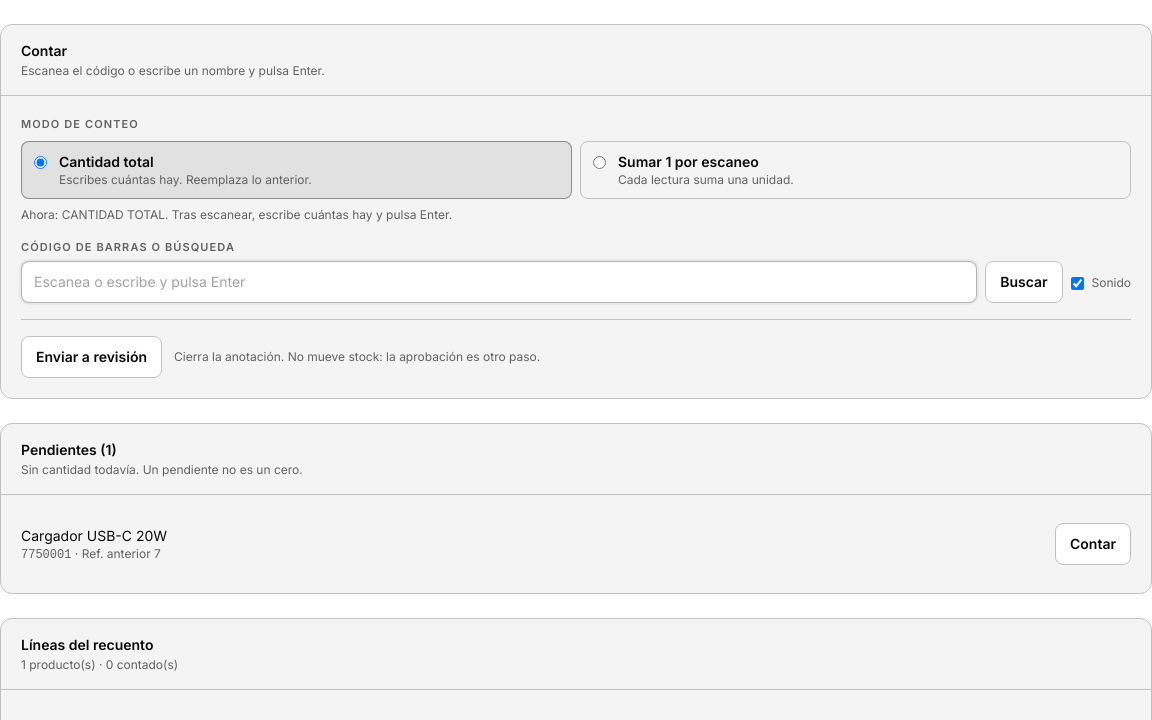
Test: referencia del sistema anterior › se ve con su nombre y nunca se copia como cantidad contada
Click the button with aria-label "Contar Cargador" at (1093, 544), box [1055,523,1131,565]
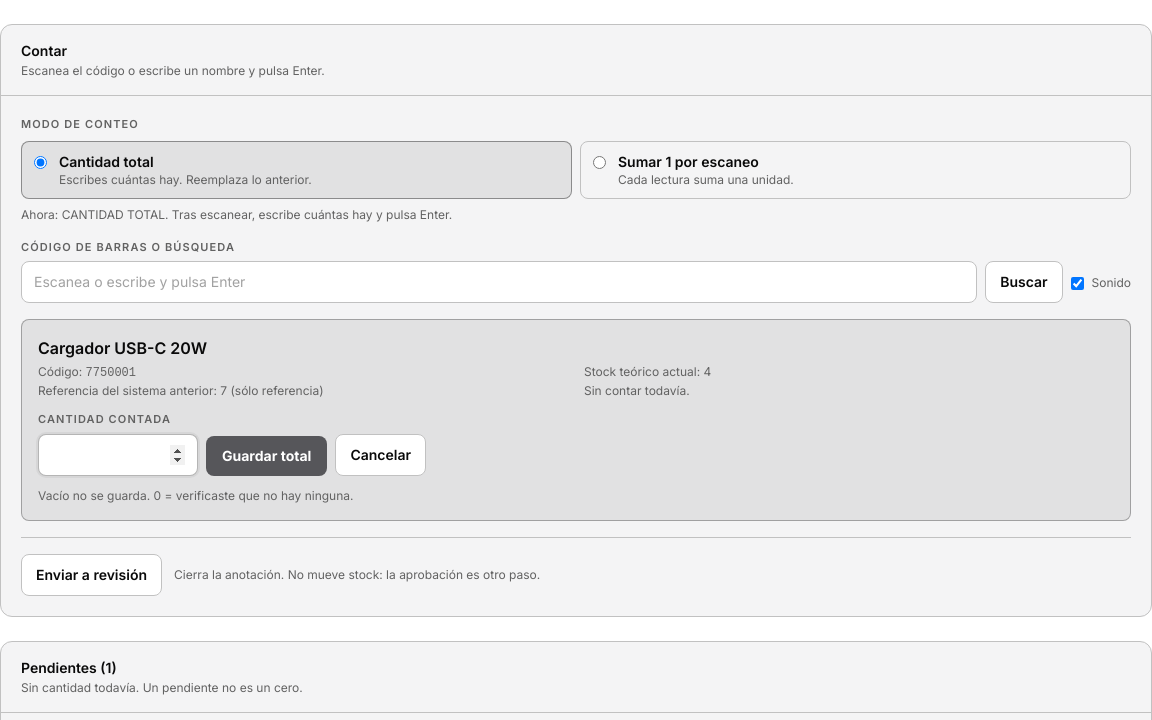
Result: the number field labelled "Cantidad contada" is not empty at [38,434,198,476]
Result: the text "Referencia del sistema anterior: 7 (sólo referencia)" is shown at [38,383,324,398]
